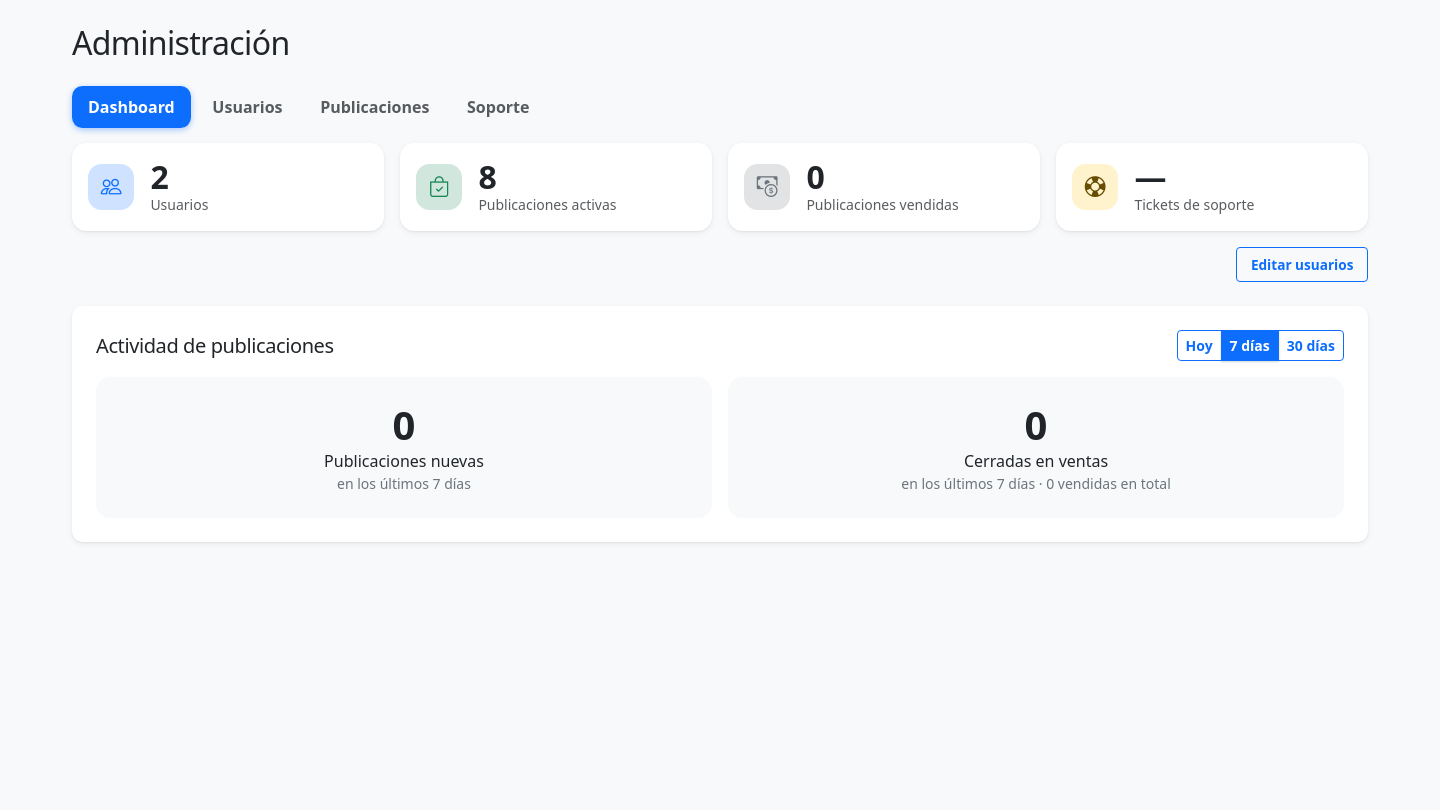
AdminPage (modo simulado) › un superusuario no se puede deshabilitar ni eliminar (su ventana solo tiene Cerrar y Guardar cambios)
Click the tab "Usuarios". click: point(247, 107)
box: [196,86,298,128]
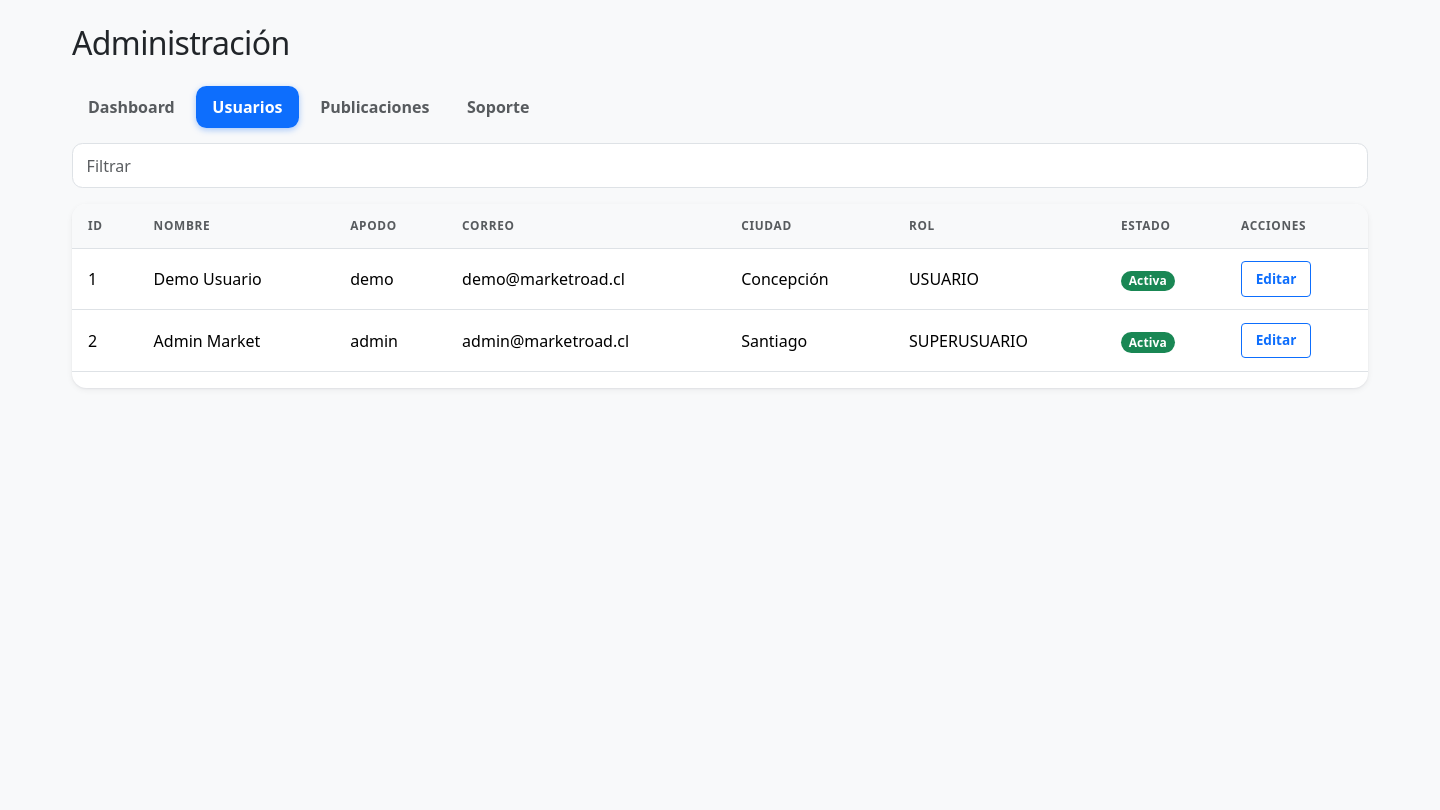
Click the button "Editar" in the row of "Admin Market". click: point(1276, 341)
box: [1241,323,1311,358]
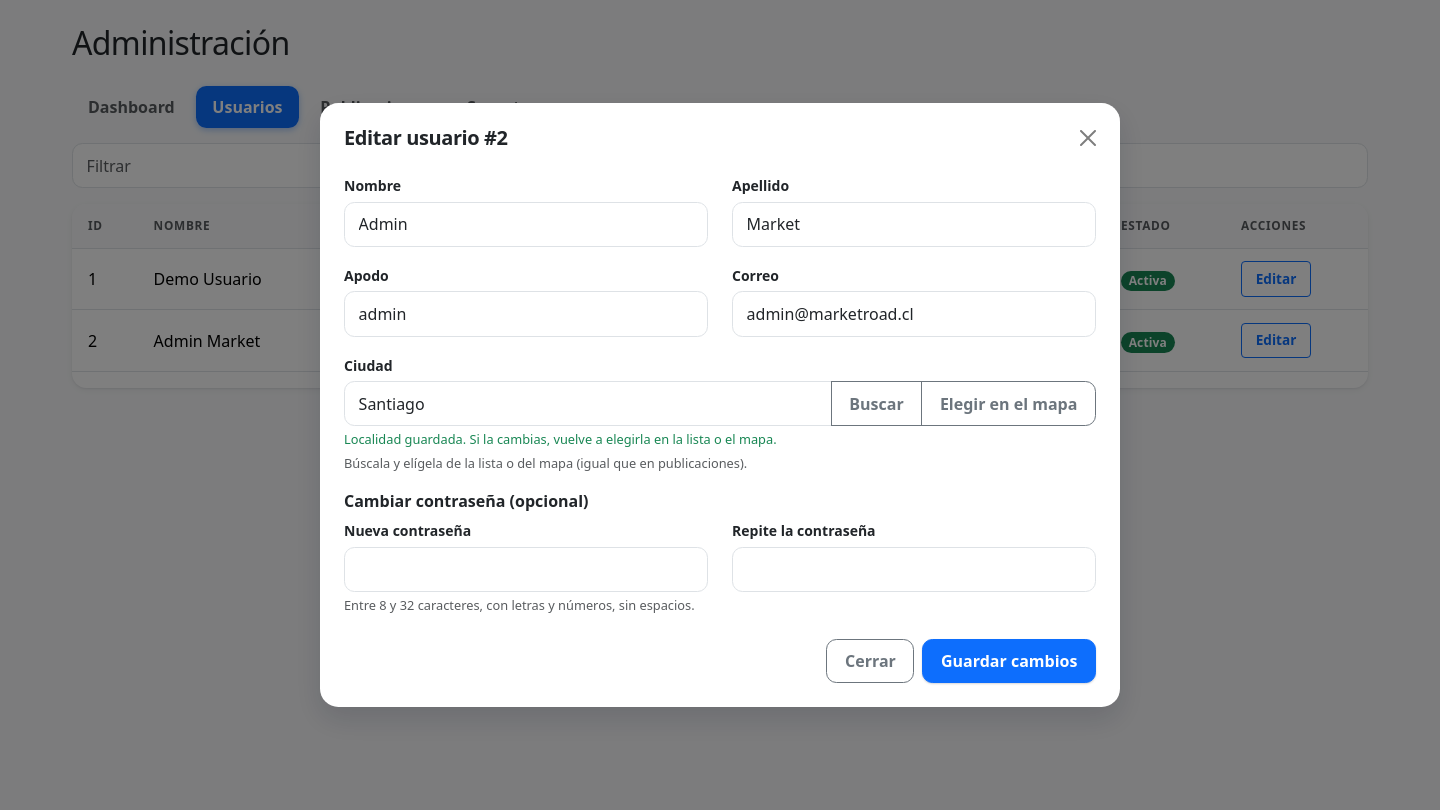
Expected: the button "Guardar cambios" is shown, [922,639,1096,683]
